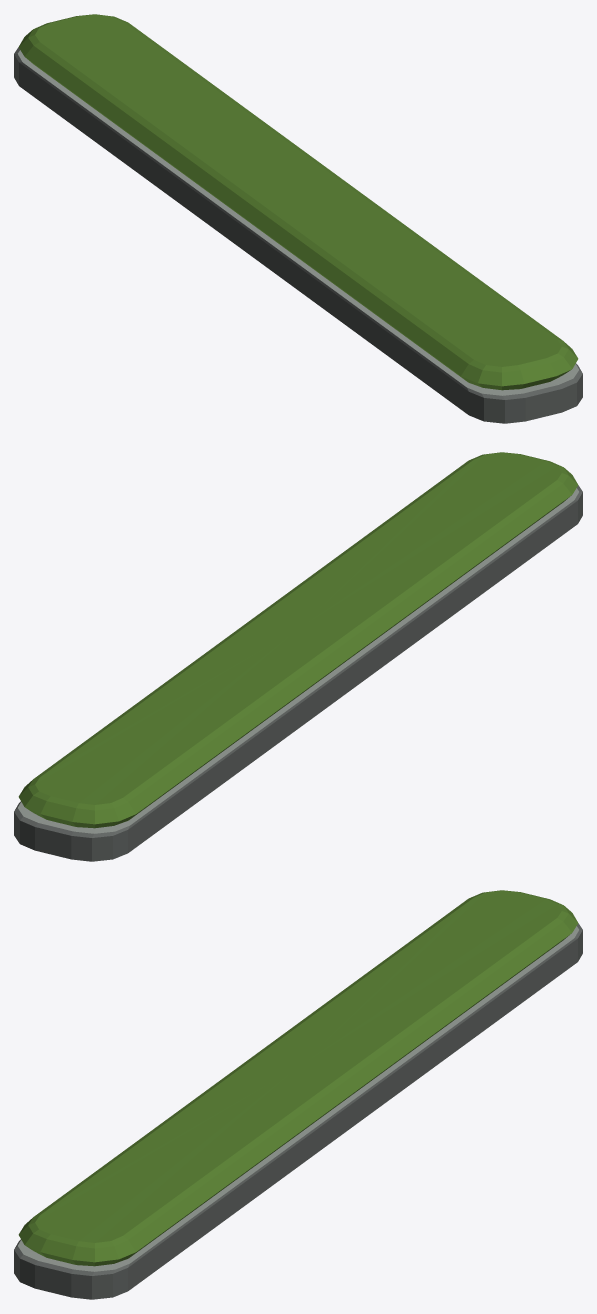
Rendered from BushPatch_01.glb.
The picture shows the model from 3 angles, top to bottom: view 1: azimuth 30°, elevation 25°; view 2: azimuth 150°, elevation 25°; view 3: azimuth 330°, elevation 25°; orthographic projection.
Parts seen in each view (by area): view 1: BushPatch_01; view 2: BushPatch_01; view 3: BushPatch_01.
Boxes of the visible parts, bbox=[...] form: BushPatch_01: bbox=[14, 14, 582, 423]; BushPatch_01: bbox=[14, 452, 582, 861]; BushPatch_01: bbox=[14, 890, 582, 1299].
Size of what is drawn, in the model's own units: 0.5978 by 0.2399 by 4.56.
Materials: 1 (1 with a texture image).
